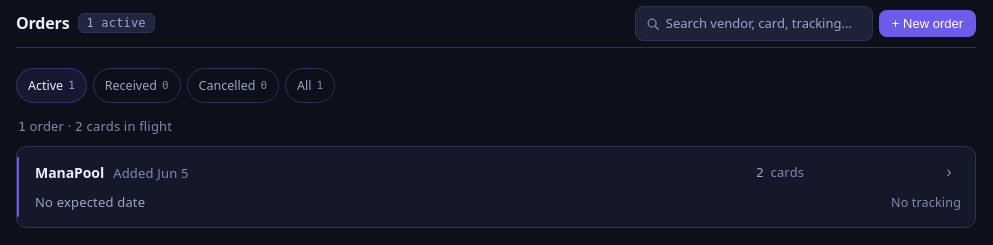
Scenario: OrdersPage — list, filters and summary › empty cancelled tab
This screenshot has width=993, height=245.
Click the button "Cancelled 0" at (233, 86), box x1=187 y1=68 x2=279 y2=103
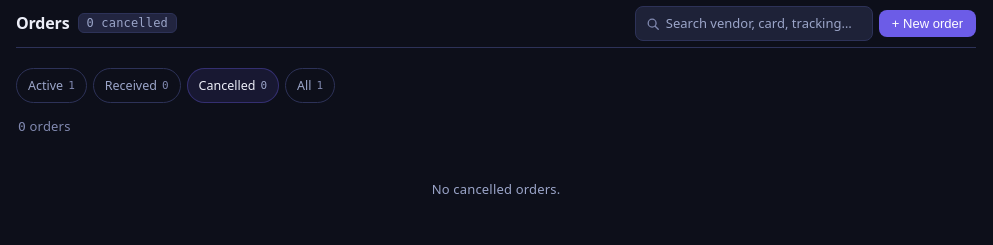
Expected: the text "No cancelled orders." is shown, x1=432 y1=180 x2=560 y2=198
